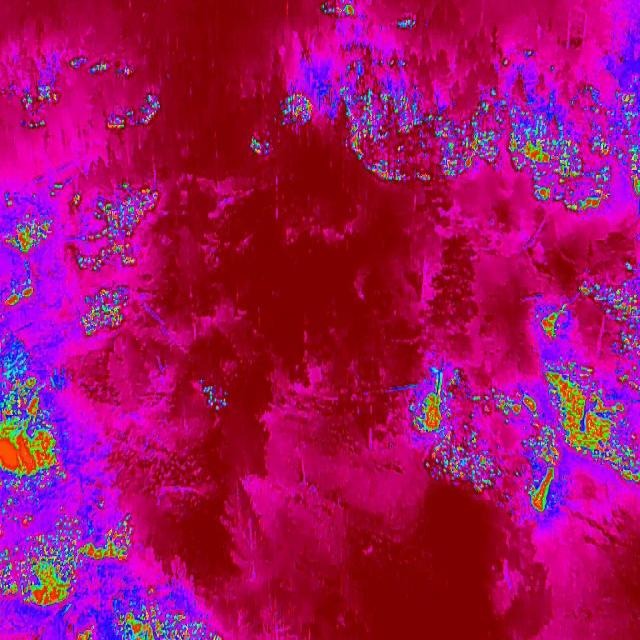fire: (334, 56, 506, 192), (508, 78, 620, 220), (546, 355, 639, 485), (69, 183, 159, 274), (0, 371, 64, 491), (425, 422, 516, 497), (111, 584, 216, 638), (3, 548, 84, 614), (582, 272, 640, 352), (4, 216, 51, 312), (524, 428, 564, 518), (76, 285, 134, 337), (468, 384, 542, 424), (104, 90, 164, 138), (620, 73, 640, 214), (80, 524, 140, 568), (18, 82, 62, 134), (66, 54, 136, 85), (410, 383, 448, 438), (537, 293, 575, 345), (278, 89, 316, 132), (316, 0, 358, 26), (250, 134, 272, 158), (200, 380, 220, 401), (72, 624, 98, 640)
